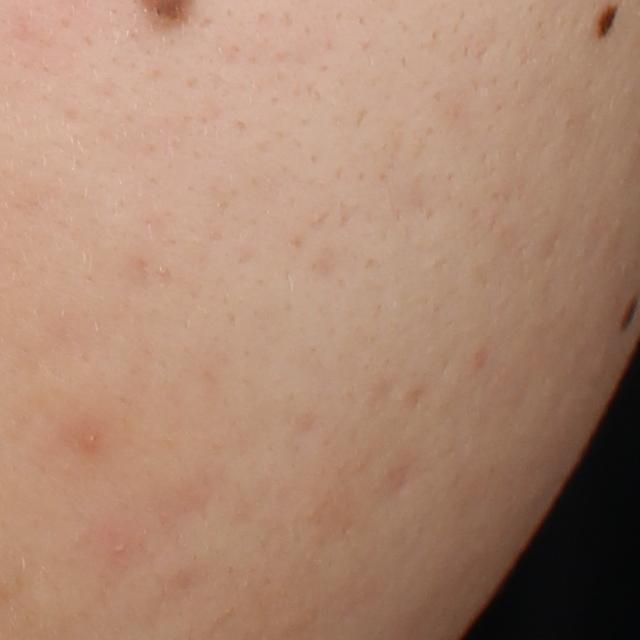atrophic_scar: (380, 460, 412, 501)
nevus: (595, 0, 624, 50)
